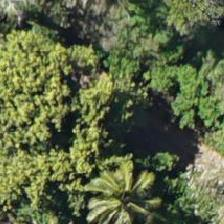coconut_tree: (82, 161, 172, 223)
